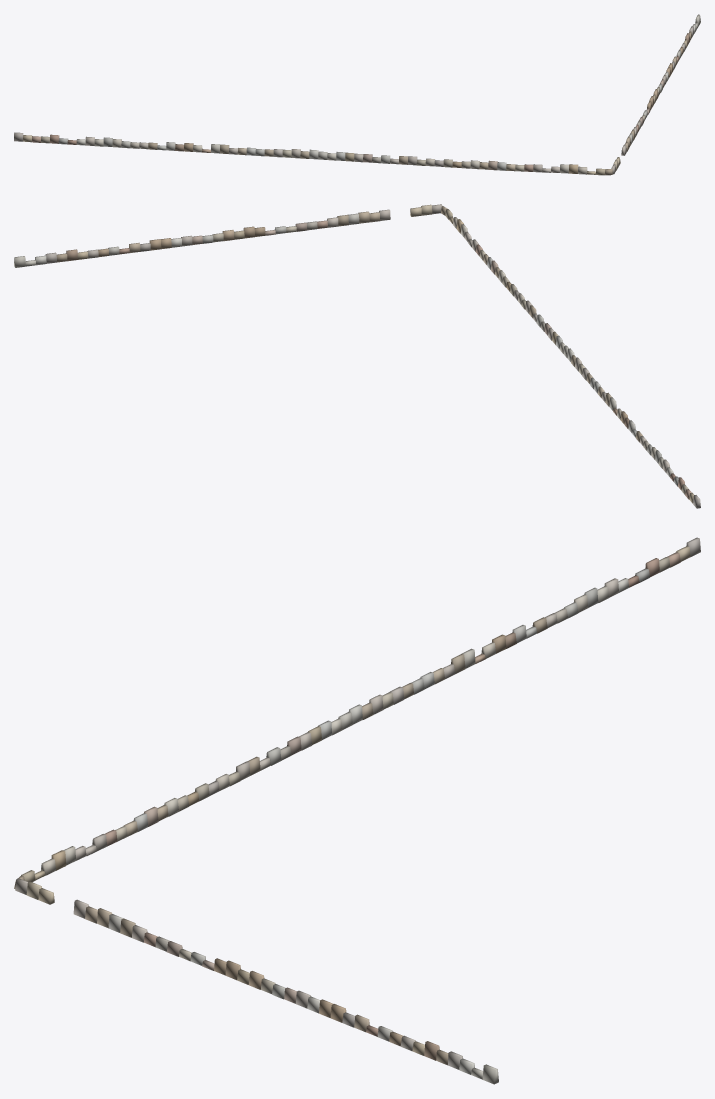
The model's file is farm_-26_-24_collision.glb.
3 renders of one model, top to bottom at view 1: azimuth 30°, elevation 25°; view 2: azimuth 150°, elevation 25°; view 3: azimuth 270°, elevation 25°, orthographic. The views are drawn at different scales.
Visible parts, largest first — view 1: geometry_0; view 2: geometry_0; view 3: geometry_0.
Boxes of the visible parts, x1,y1,x2,y2 form: geometry_0: (14, 14, 700, 175); geometry_0: (14, 204, 700, 508); geometry_0: (14, 537, 700, 1084).
Bounding box in the file's own units: 128 × 2.99 × 68.11.
